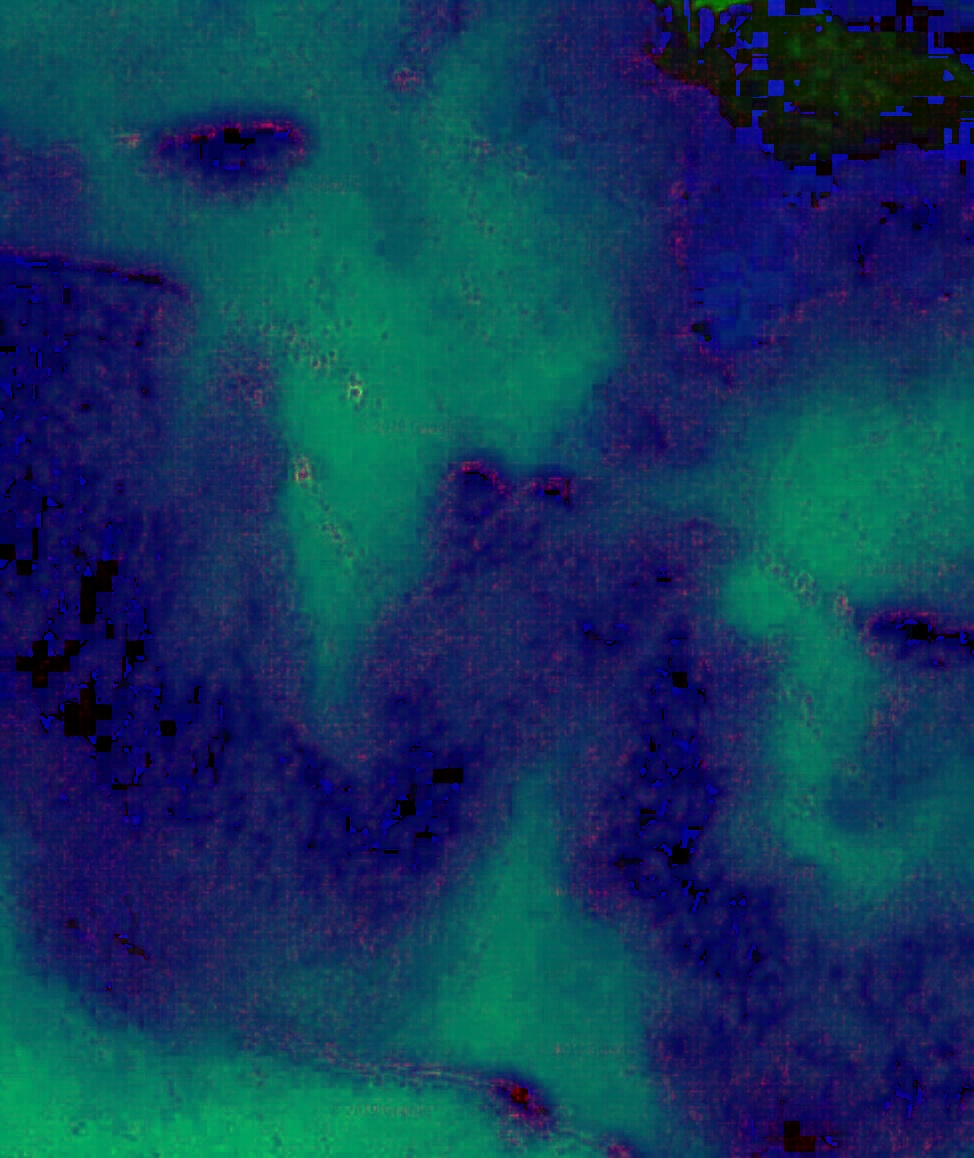rip_current: (174, 278, 493, 784)
